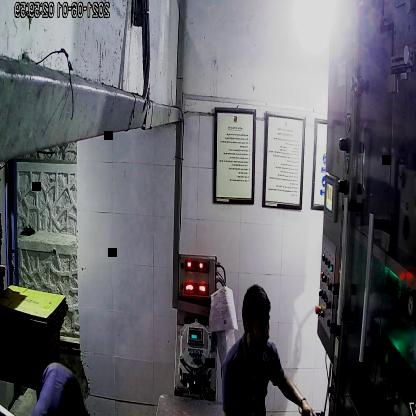no_goggles: (241, 313, 273, 339)
